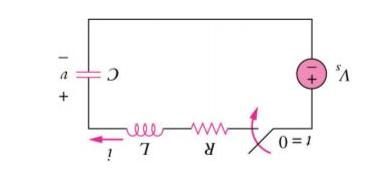inductor: (120, 114, 172, 142)
